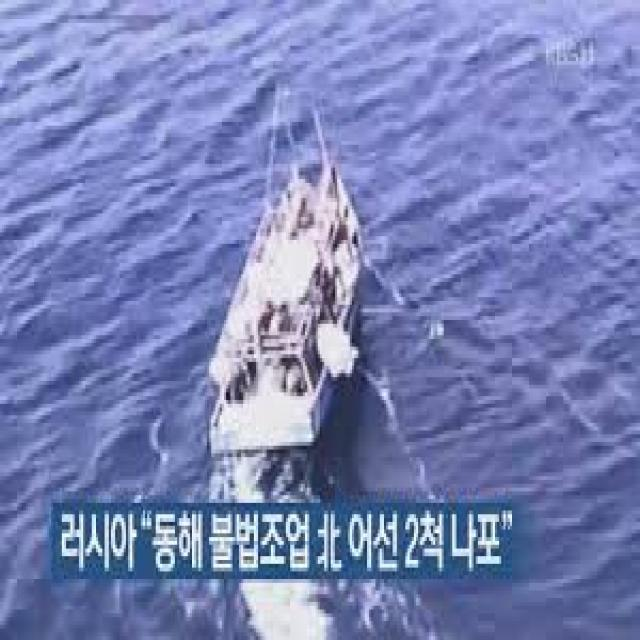Ship: (193, 81, 383, 493)
